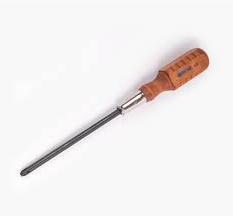Screwdriver: (19, 40, 214, 180)
